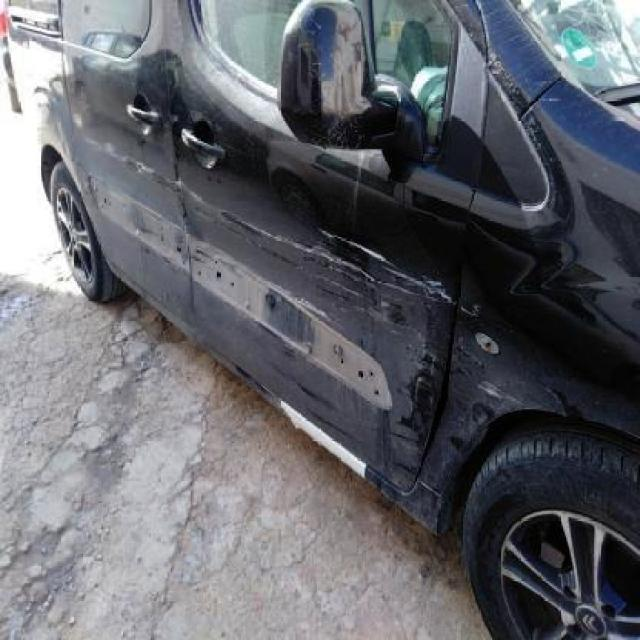car damage: (274, 219, 435, 337), (403, 351, 454, 494), (464, 395, 501, 435)
